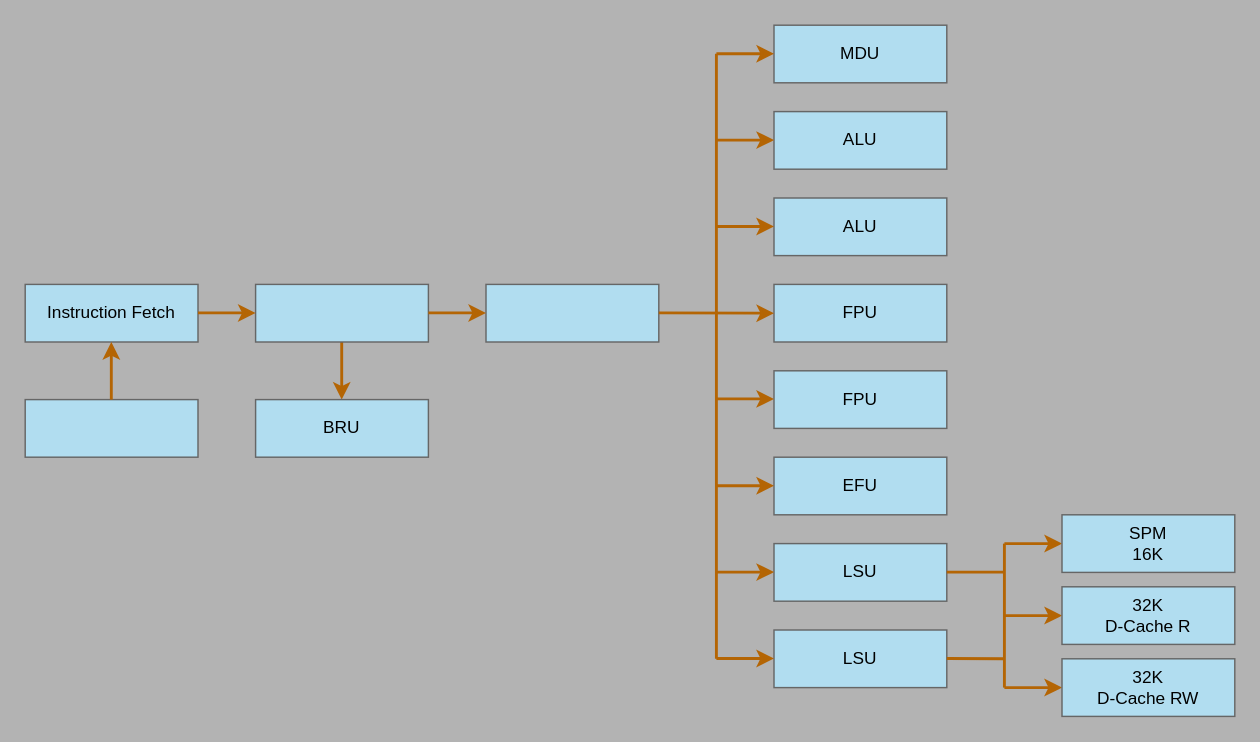
Some shapes in this 1260 by 742 pixel diagram are drawn without their labels. The centre of each missing label's shape, as x and y in pixels:
"32K I-Cache" goes at (111,427).
"Decode" goes at (341,312).
"Register Issue" goes at (572,312).
